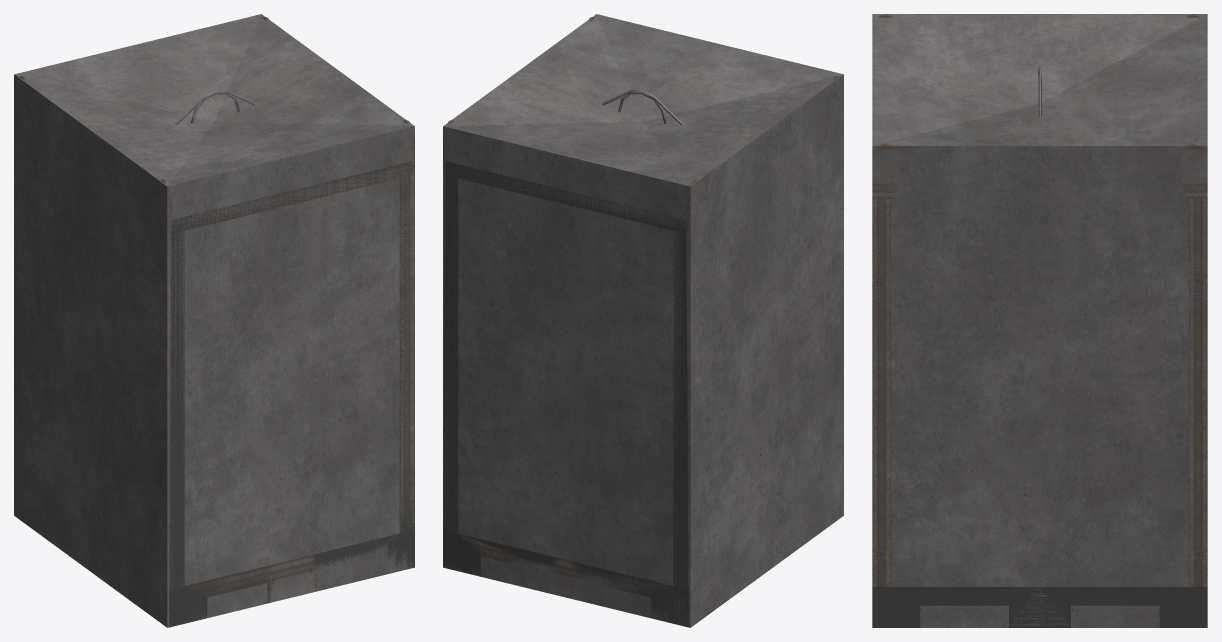
Rendered from ind_fullgasrack.DAE.
3 renders of one model, left to right at view 1: azimuth 30°, elevation 25°; view 2: azimuth 150°, elevation 25°; view 3: azimuth 270°, elevation 25°, orthographic. The views are drawn at different scales.
Parts seen in each view (by area): view 1: Colmesh-1, ind_fullgasrack50, ind_fullgasrack100, ind_fullgasrack200; view 2: Colmesh-1, ind_fullgasrack50, ind_fullgasrack100, ind_fullgasrack200; view 3: Colmesh-1, ind_fullgasrack100, ind_fullgasrack50, ind_fullgasrack200.
Boxes of the visible parts, bbox=[...] form: Colmesh-1: bbox=[14, 14, 414, 627]; ind_fullgasrack50: bbox=[169, 161, 414, 627]; ind_fullgasrack100: bbox=[170, 161, 414, 602]; ind_fullgasrack200: bbox=[20, 17, 414, 234]; Colmesh-1: bbox=[443, 14, 843, 627]; ind_fullgasrack50: bbox=[443, 161, 688, 627]; ind_fullgasrack100: bbox=[443, 162, 687, 602]; ind_fullgasrack200: bbox=[443, 17, 837, 234]; Colmesh-1: bbox=[872, 14, 1207, 627]; ind_fullgasrack100: bbox=[872, 198, 1207, 586]; ind_fullgasrack50: bbox=[872, 587, 1207, 627]; ind_fullgasrack200: bbox=[872, 14, 1207, 198].
Bounding box in the file's own units: 130 × 140 × 228.
